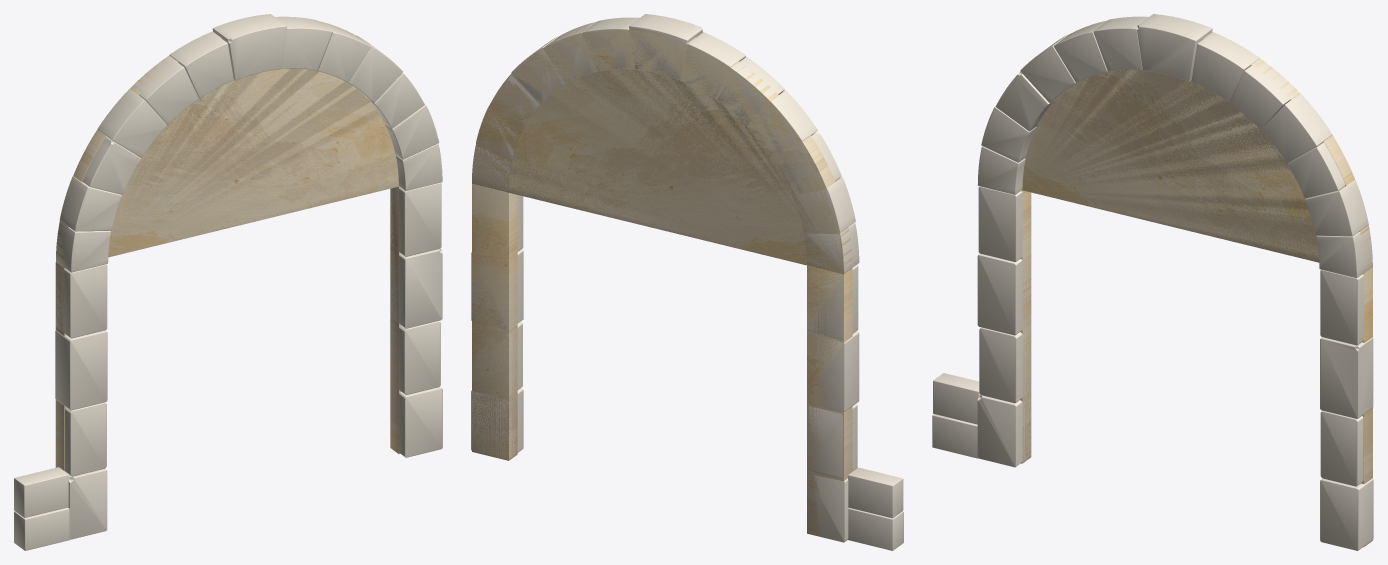
Rendered from CM_EW11_InnerMasonry.fbx.
The picture shows the model from 3 angles, left to right: view 1: azimuth 30°, elevation 25°; view 2: azimuth 150°, elevation 25°; view 3: azimuth 330°, elevation 25°; orthographic projection. The views are drawn at different scales.
Parts seen in each view (by area): view 1: CM_EW11_InnerMasonry; view 2: CM_EW11_InnerMasonry; view 3: CM_EW11_InnerMasonry.
Part boxes in pixels (<box>): CM_EW11_InnerMasonry: <box>14,14,442,550</box>; CM_EW11_InnerMasonry: <box>471,14,903,550</box>; CM_EW11_InnerMasonry: <box>932,14,1373,550</box>.
Size of the model in its own units: 2.81 by 2.99 by 0.195.
